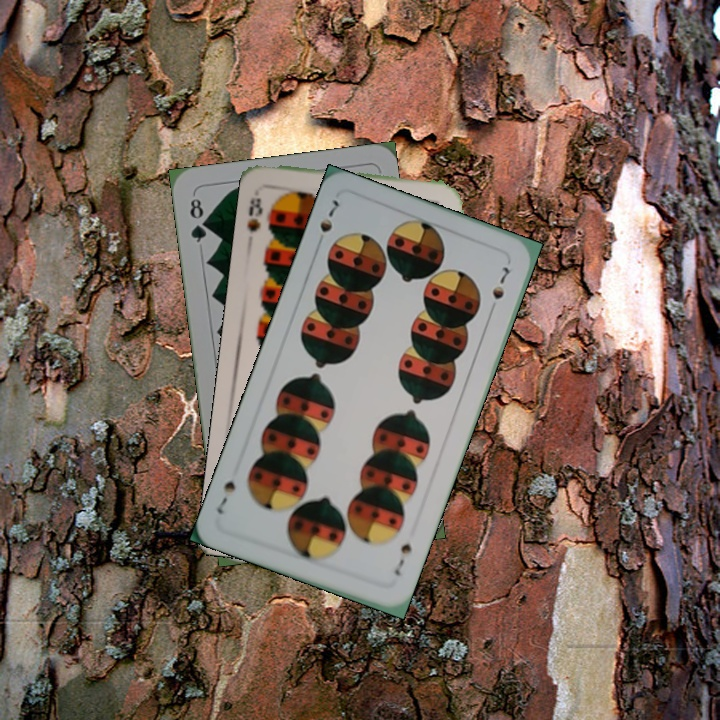G8: (185, 194, 210, 246)
S7: (312, 195, 342, 250), (390, 539, 414, 579)
S8: (242, 193, 266, 234)
